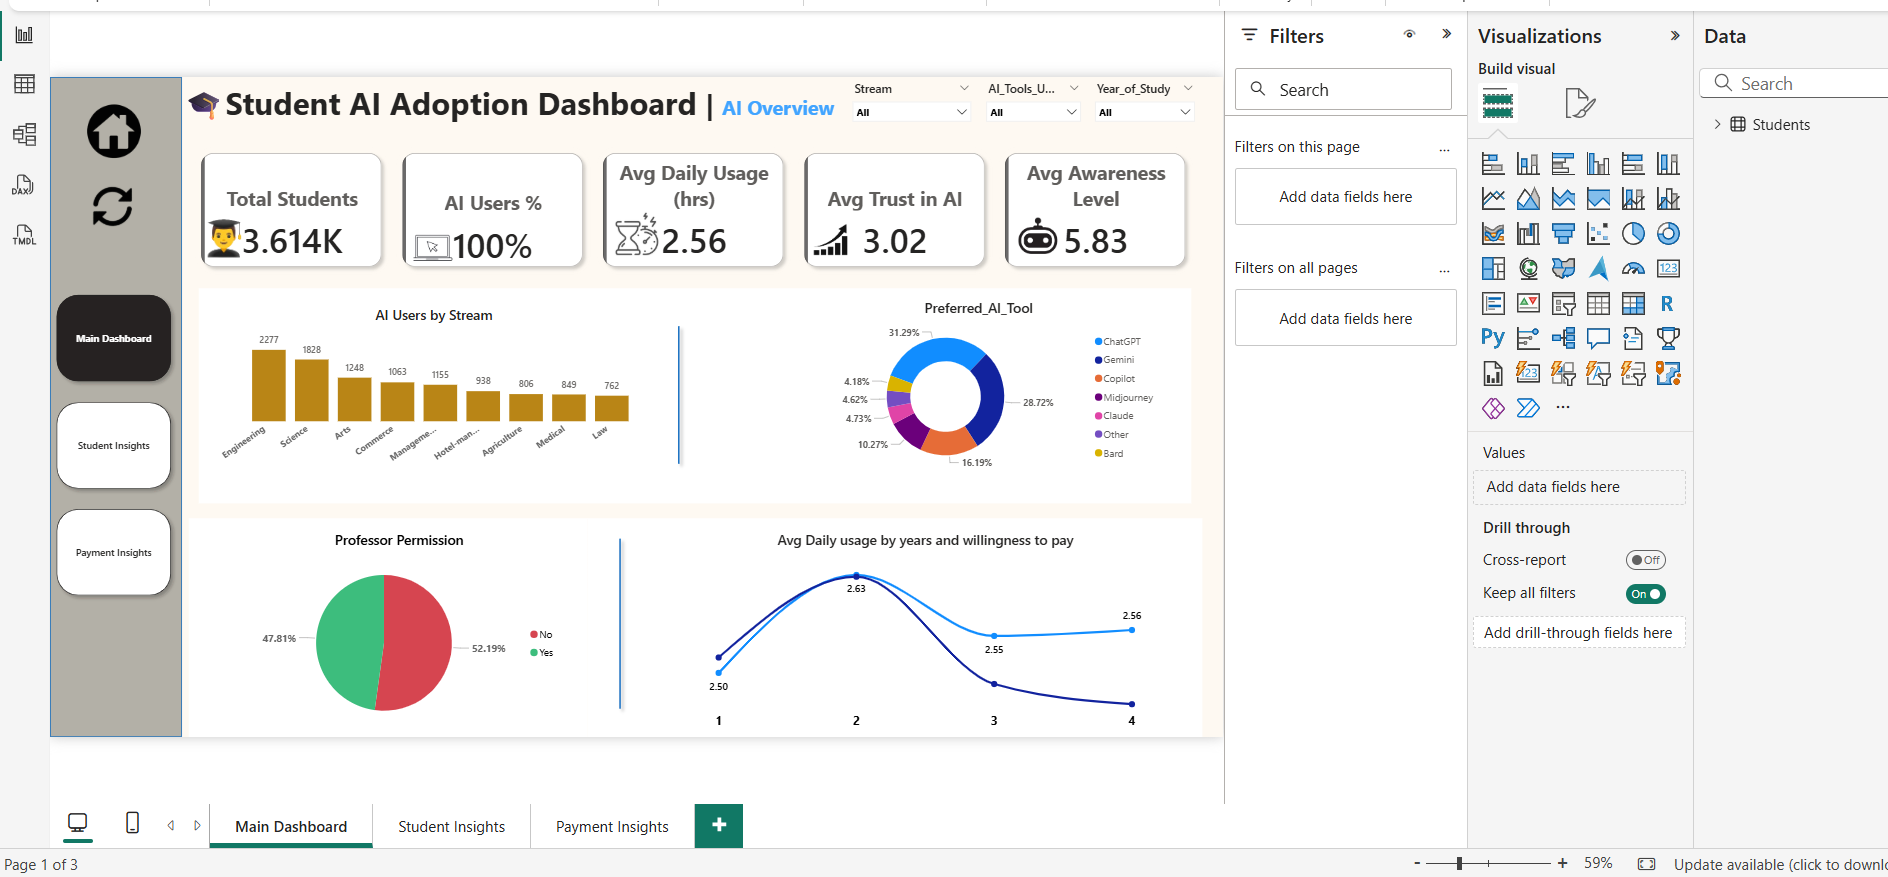

The dashboard page shown, as its layout file describes it:
{"tool":"powerbi","page":{"name":"Main Dashboard","canvas":[1600,900],"ordinal":0},"visuals":[{"type":"textbox","box":[175,0,909.1,75.5],"z":0},{"type":"cardVisual","fields":{"Data":["Students.Total Students","Students.AI Users %","Students.Avg Daily Usage (hrs)","Students.Avg Trust in AI","Students.Avg Awareness Level"]},"box":[188.7,87.5,1384.2,193.8],"z":1000},{"type":"shape","box":[202.4,288.2,1353.3,293.3],"z":2000},{"type":"clusteredColumnChart","title":"AI Users by Stream","fields":{"Category":["Students.Stream"],"Y":["Students.Total Usage (hrs)"]},"box":[228.1,312.2,590.1,224.7],"z":3000},{"type":"donutChart","title":"Preferred_AI_Tool","fields":{"Category":["Students.AI_Tools_Used"],"Y":["Students.Total Students"]},"box":[1013.7,301.9,504.3,243.6],"z":4000},{"type":"shape","box":[188.7,602.1,543.7,298.5],"z":5000},{"type":"shape","box":[845.6,331,24,205.8],"z":6000},{"type":"image","box":[202.4,188.7,77.2,68.6],"z":7000},{"type":"image","box":[490.6,183.5,65.2,97.8],"z":8000},{"type":"image","box":[1022.3,192.1,87.5,60],"z":9000},{"type":"image","box":[1313.9,163,70.3,108.1],"z":10000},{"type":"pieChart","title":"Professor Permission","fields":{"Category":["Students.Do_Professors_Allow_Use"],"Y":["CountNonNull(Students.Student Name)"]},"box":[252.1,619.2,447.7,281.3],"z":11000},{"type":"shape","box":[732.4,602.1,838.8,298.5],"z":12000},{"type":"lineChart","title":"Avg Daily usage by years and willingness to pay ","fields":{"Category":["Students.Year_of_Study"],"Y":["select","Avg(Students.Daily_Usage_Hours)"],"Y2":["CountNonNull(Students.Willing_to_Pay_for_Access)"]},"box":[831.9,619.2,723.8,281.3],"z":13000},{"type":"image","box":[742.7,169.8,114.9,92.6],"z":14000},{"type":"shape","box":[0,0,180,900],"z":15000},{"type":"shape","box":[766,620,24,250],"z":16000},{"type":"image","box":[36,22.3,104.6,102.9],"z":17000},{"type":"slicer","fields":{"Values":["Students.Stream"]},"box":[1084.1,0,181.8,87.5],"z":18000},{"type":"slicer","fields":{"Values":["Students.Year_of_Study"]},"box":[1415.1,0,156.1,87.5],"z":19000},{"type":"slicer","fields":{"Values":["Students.AI_Tools_Used"]},"box":[1265.9,0,149.2,73.8],"z":20000},{"type":"image","box":[36,130,102,92],"z":21000},{"type":"pageNavigator","box":[0,288,174,430],"z":22000}]}

Visuals, with their boxes on the page's 1600x900 design canvas (x1, y1, x2, y2). These are canvas units, not pixel positions in the 1888x877 screenshot, which may show the page scaled, cropped or inside an application window:
textbox: {"x1": 175, "y1": 0, "x2": 1084, "y2": 76}
cardVisual - Students.Total Students x Students.AI Users %: {"x1": 189, "y1": 88, "x2": 1573, "y2": 281}
shape: {"x1": 202, "y1": 288, "x2": 1556, "y2": 582}
"AI Users by Stream" clusteredColumnChart: {"x1": 228, "y1": 312, "x2": 818, "y2": 537}
"Preferred_AI_Tool" donutChart: {"x1": 1014, "y1": 302, "x2": 1518, "y2": 546}
shape: {"x1": 189, "y1": 602, "x2": 732, "y2": 901}
shape: {"x1": 846, "y1": 331, "x2": 870, "y2": 537}
image: {"x1": 202, "y1": 189, "x2": 280, "y2": 257}
image: {"x1": 491, "y1": 184, "x2": 556, "y2": 281}
image: {"x1": 1022, "y1": 192, "x2": 1110, "y2": 252}
image: {"x1": 1314, "y1": 163, "x2": 1384, "y2": 271}
"Professor Permission" pieChart: {"x1": 252, "y1": 619, "x2": 700, "y2": 900}
shape: {"x1": 732, "y1": 602, "x2": 1571, "y2": 901}
"Avg Daily usage by years and willingness to pay " lineChart: {"x1": 832, "y1": 619, "x2": 1556, "y2": 900}
image: {"x1": 743, "y1": 170, "x2": 858, "y2": 262}
shape: {"x1": 0, "y1": 0, "x2": 180, "y2": 900}
shape: {"x1": 766, "y1": 620, "x2": 790, "y2": 870}
image: {"x1": 36, "y1": 22, "x2": 141, "y2": 125}
slicer - Students.Stream: {"x1": 1084, "y1": 0, "x2": 1266, "y2": 88}
slicer - Students.Year_of_Study: {"x1": 1415, "y1": 0, "x2": 1571, "y2": 88}
slicer - Students.AI_Tools_Used: {"x1": 1266, "y1": 0, "x2": 1415, "y2": 74}
image: {"x1": 36, "y1": 130, "x2": 138, "y2": 222}
pageNavigator: {"x1": 0, "y1": 288, "x2": 174, "y2": 718}
